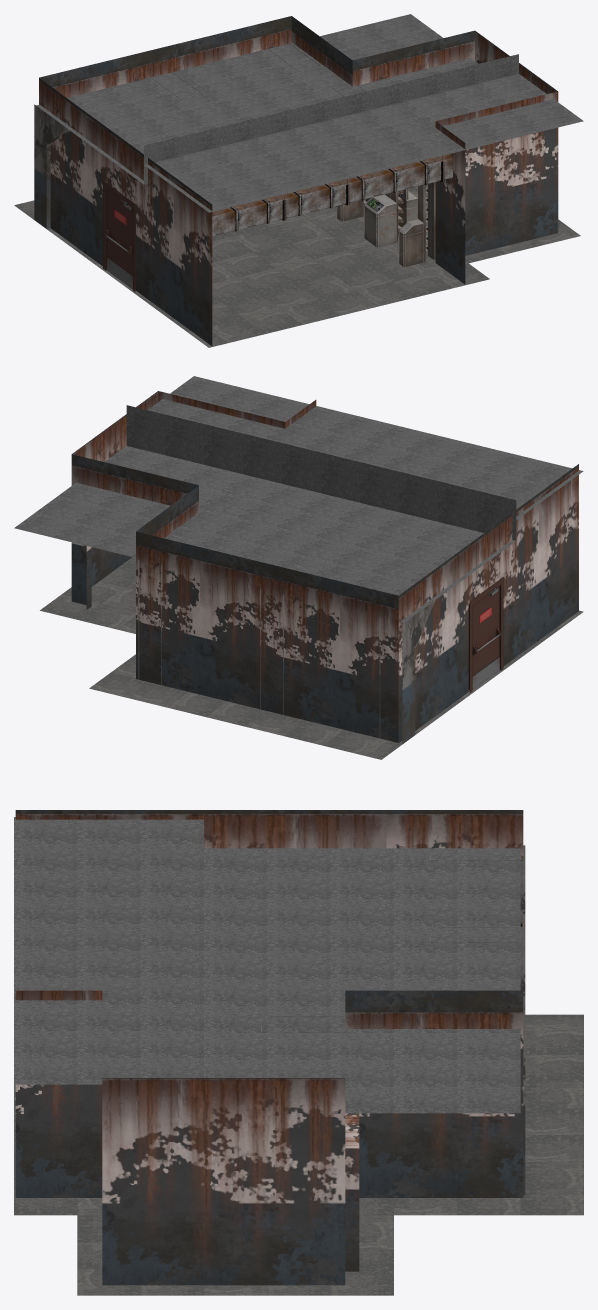
Rendered from second station.fbx.
The picture shows the model from 3 angles, top to bottom: view 1: azimuth 30°, elevation 25°; view 2: azimuth 150°, elevation 25°; view 3: azimuth 270°, elevation 25°; orthographic projection. The views are drawn at different scales.
Parts seen in each view (by area): view 1: FloorCeilingWallPillar1, Section2Walls, Vents_3, GateStuff, Door2, DoorFrame; view 2: FloorCeilingWallPillar1, Section2Walls, Door2, DoorFrame; view 3: FloorCeilingWallPillar1, Section2Walls.
Part boxes in pixels (bbox=[...]): FloorCeilingWallPillar1: bbox=[14, 14, 583, 347]; Section2Walls: bbox=[39, 16, 558, 345]; Vents_3: bbox=[212, 130, 452, 236]; GateStuff: bbox=[337, 182, 435, 266]; Door2: bbox=[104, 189, 132, 289]; DoorFrame: bbox=[103, 180, 135, 291]; FloorCeilingWallPillar1: bbox=[14, 376, 583, 759]; Section2Walls: bbox=[71, 391, 578, 742]; Door2: bbox=[472, 586, 501, 689]; DoorFrame: bbox=[468, 577, 503, 692]; FloorCeilingWallPillar1: bbox=[14, 817, 583, 1295]; Section2Walls: bbox=[15, 810, 523, 1285].
Bounding box in the file's own units: 1053 × 400 × 900.
